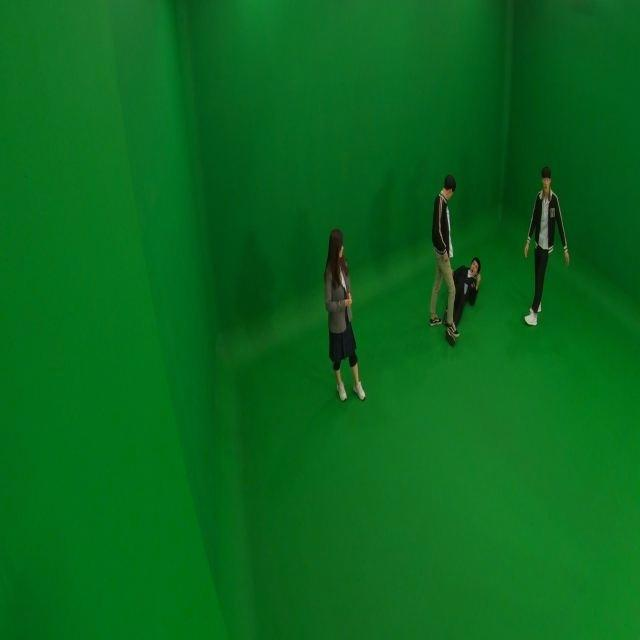fight: (427, 174, 484, 344)
non-fight: (521, 165, 568, 327), (324, 227, 364, 402)
